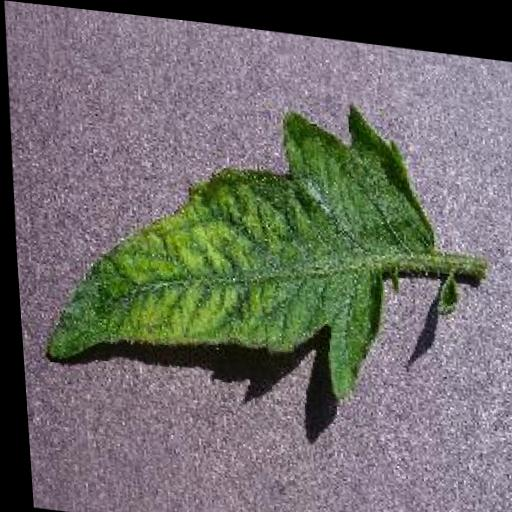Mosaic Virus: (20, 60, 444, 417)
